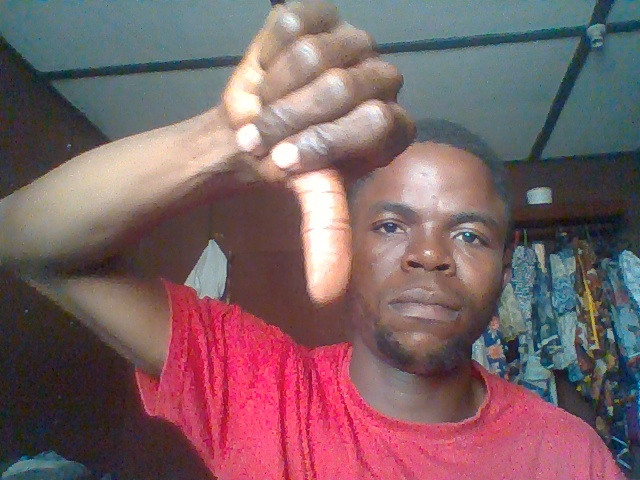Thumbdown: (219, 1, 421, 314)
